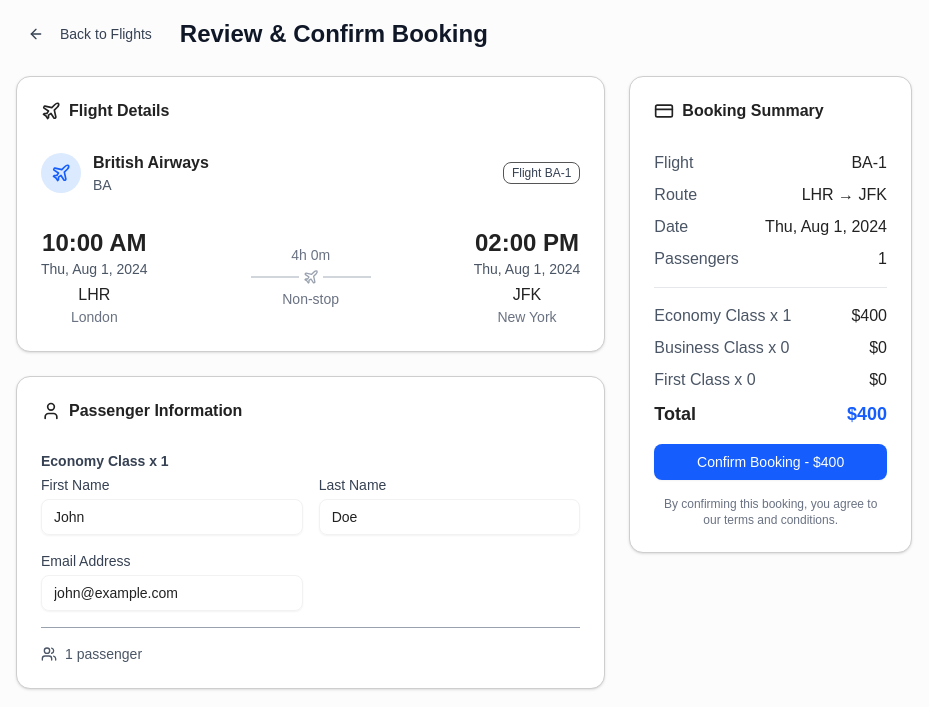
Test: BookingPage › submits booking and shows success message
Click the button "Confirm Booking - $400" at (771,462), box [654,444,887,480]
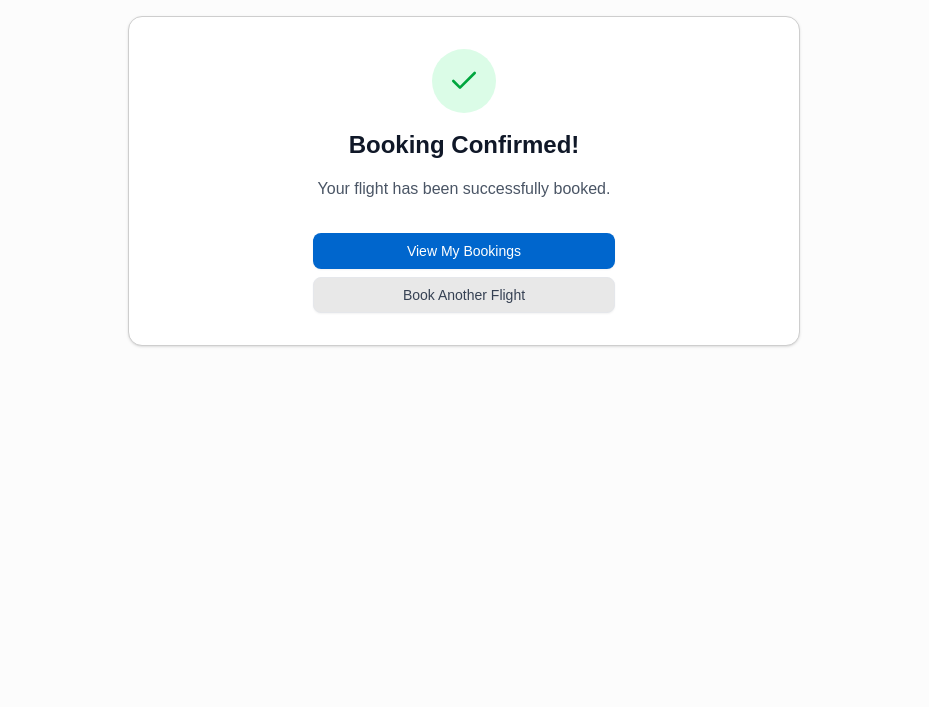
Check: the heading "Booking Confirmed!" is shown, box [349,129,579,161]
